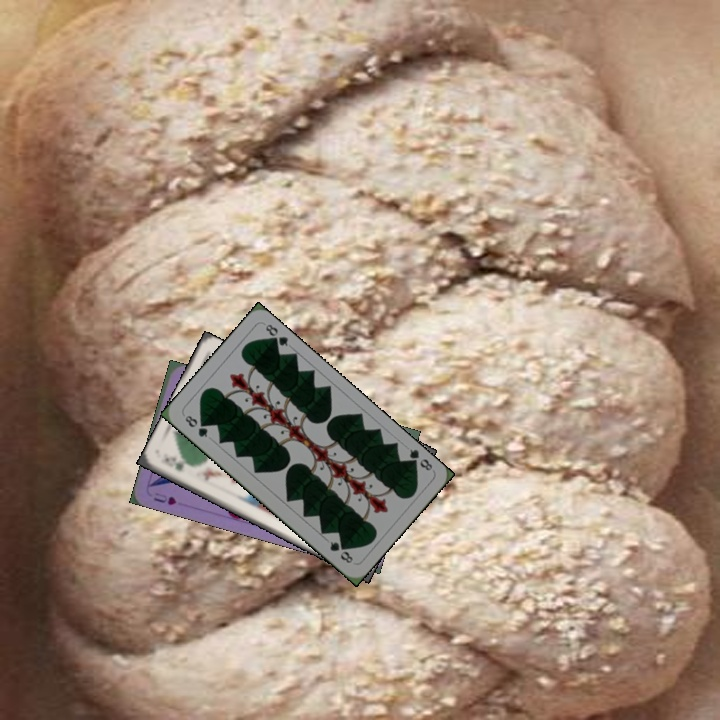G8: (403, 445, 435, 473), (181, 411, 211, 440)
GK: (161, 454, 186, 474)
HU: (150, 488, 179, 508)
